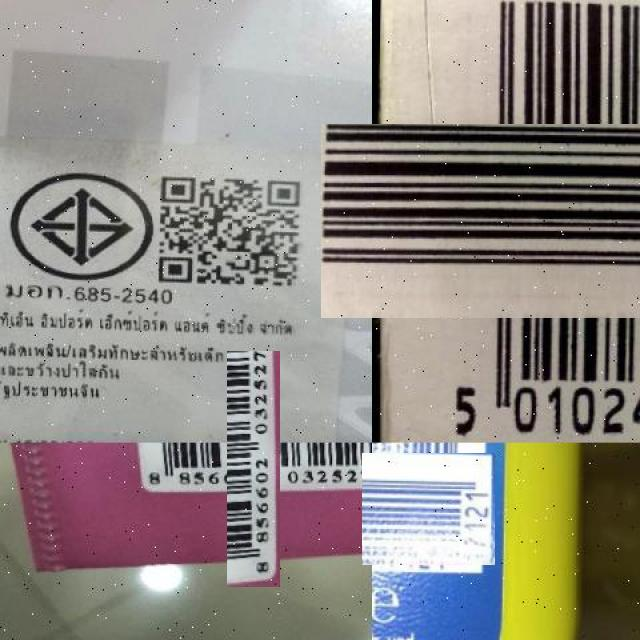Barcode: (384, 63, 640, 381), (181, 397, 326, 542), (367, 448, 490, 571)
